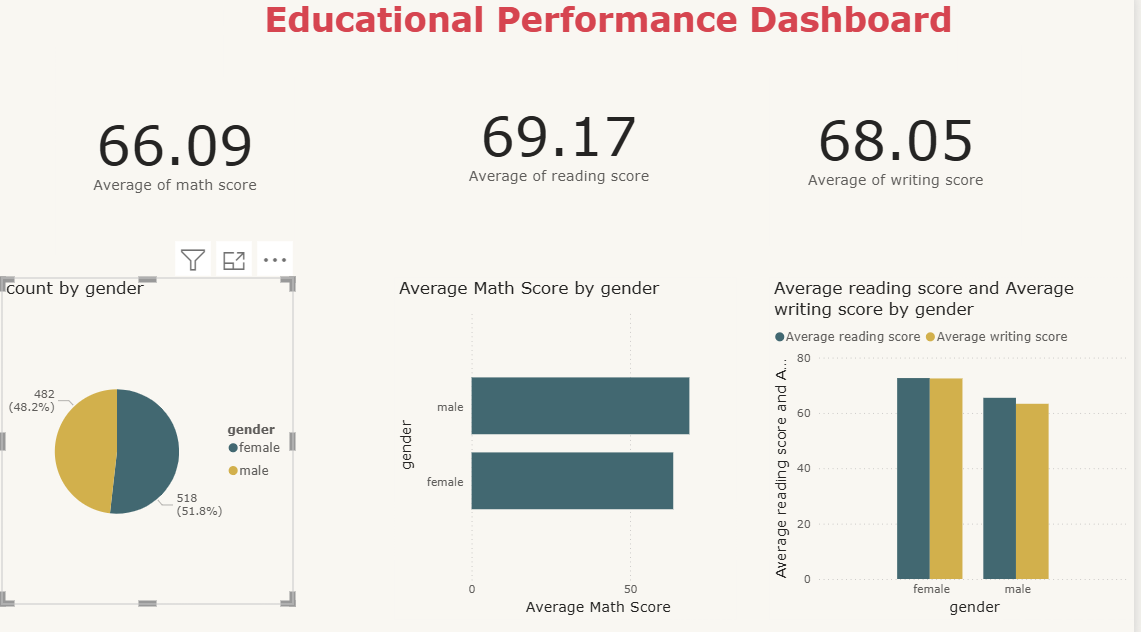

Layout of this report page (visuals, bound fields, positions):
{"tool":"powerbi","page":{"name":"Page 1","canvas":[1280,720],"ordinal":0},"visuals":[{"type":"card","fields":{"Values":["Avg(StudentsPerformance.math score)"]},"box":[81.7,56.7,265,233.3],"z":0},{"type":"card","fields":{"Values":["Avg(StudentsPerformance.reading score)"]},"box":[506.7,46.7,268.3,233.3],"z":1},{"type":"card","fields":{"Values":["Avg(StudentsPerformance.writing score)"]},"box":[875,56.7,280,223.3],"z":2},{"type":"pieChart","fields":{"Category":["StudentsPerformance.gender"],"Y":["CountNonNull(StudentsPerformance.gender)"]},"box":[21.7,315,325,363.3],"z":3},{"type":"clusteredBarChart","fields":{"Y":["Avg(StudentsPerformance.math score)"],"Category":["StudentsPerformance.gender"]},"box":[458.3,315,380,380],"z":4},{"type":"clusteredColumnChart","fields":{"Category":["StudentsPerformance.gender"],"Y":["Avg(StudentsPerformance.reading score)","Avg(StudentsPerformance.writing score)"]},"box":[875,315,405,380],"z":5},{"type":"textbox","box":[268.3,0,815,91.7],"z":6}]}

Visuals, with their boxes in screenshot pixels (x1, y1, x2, y2), scaled from the page's 1280x720 canvas onto the 1141x632 screenshot:
card - Avg(StudentsPerformance.math score): <box>73,50,309,255</box>
card - Avg(StudentsPerformance.reading score): <box>452,41,691,246</box>
card - Avg(StudentsPerformance.writing score): <box>780,50,1030,246</box>
pieChart - StudentsPerformance.gender x CountNonNull(StudentsPerformance.gender): <box>19,276,309,595</box>
clusteredBarChart - Avg(StudentsPerformance.math score) x StudentsPerformance.gender: <box>409,276,747,610</box>
clusteredColumnChart - StudentsPerformance.gender x Avg(StudentsPerformance.reading score): <box>780,276,1140,610</box>
textbox: <box>239,0,966,80</box>
